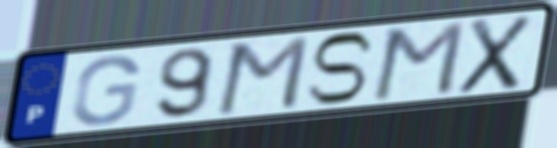9: (154, 46, 216, 119)
G: (68, 52, 143, 128)
M: (212, 32, 313, 118), (367, 18, 469, 103)
S: (302, 30, 379, 107)
X: (454, 11, 537, 97)
